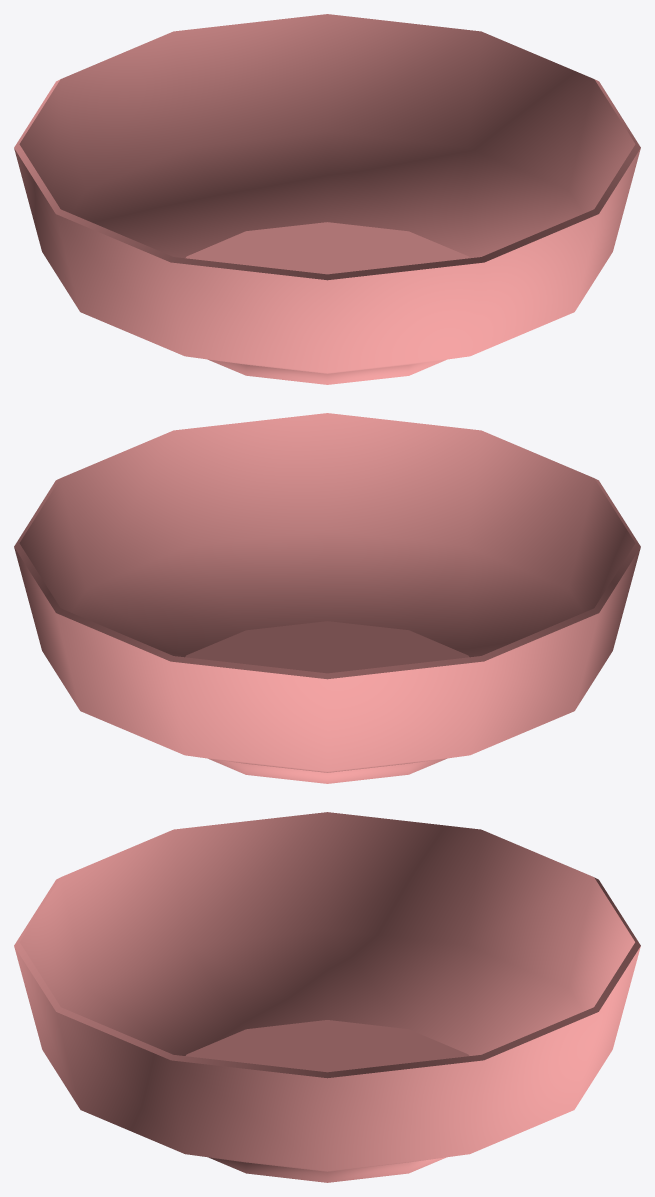
File: TFYK_bowl.FBX
The picture shows the model from 3 angles, top to bottom: view 1: azimuth 30°, elevation 25°; view 2: azimuth 150°, elevation 25°; view 3: azimuth 270°, elevation 25°; orthographic projection.
Parts seen in each view (by area): view 1: TFYK_bowl; view 2: TFYK_bowl; view 3: TFYK_bowl.
Boxes of the visible parts, x1,y1,x2,y2 form: TFYK_bowl: (14, 14, 640, 384); TFYK_bowl: (14, 413, 640, 783); TFYK_bowl: (14, 812, 640, 1182).
Size of the model in its own units: 0.1442 by 0.0436 by 0.1442.
